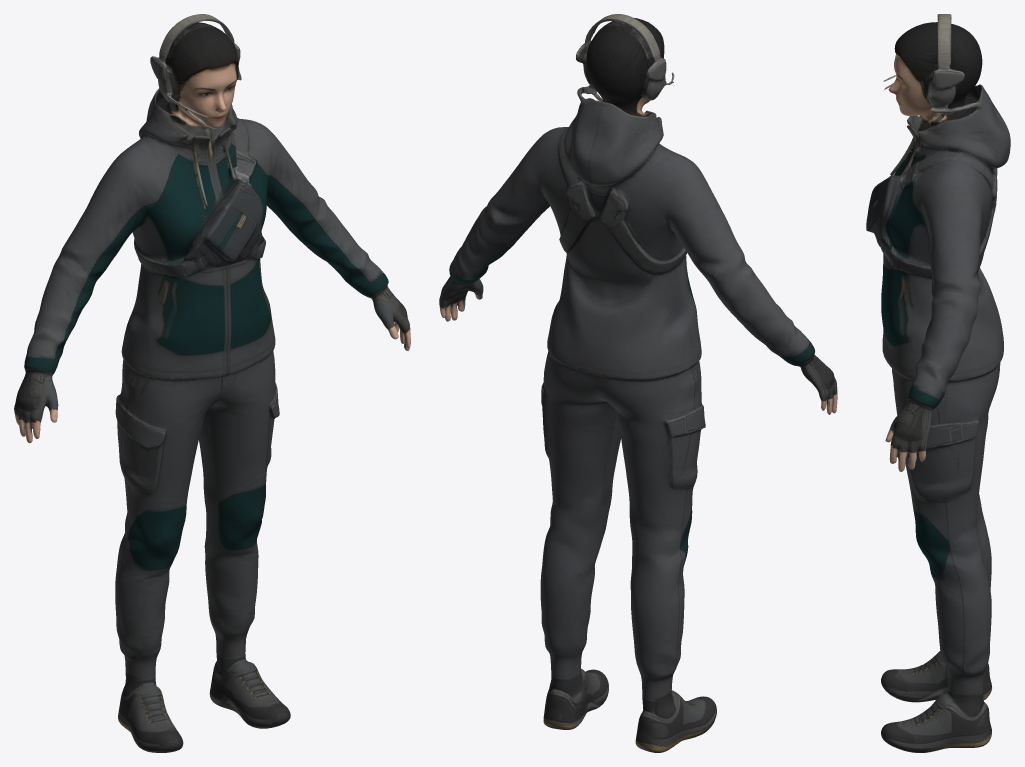
File: courier_female_urban_scout.glb
The picture shows the model from 3 angles, left to right: view 1: azimuth 30°, elevation 25°; view 2: azimuth 150°, elevation 25°; view 3: azimuth 270°, elevation 25°; orthographic projection.
Size of the model in its own units: 1.08 by 1.9 by 0.3532.
Materials: 1 (1 with a texture image).
